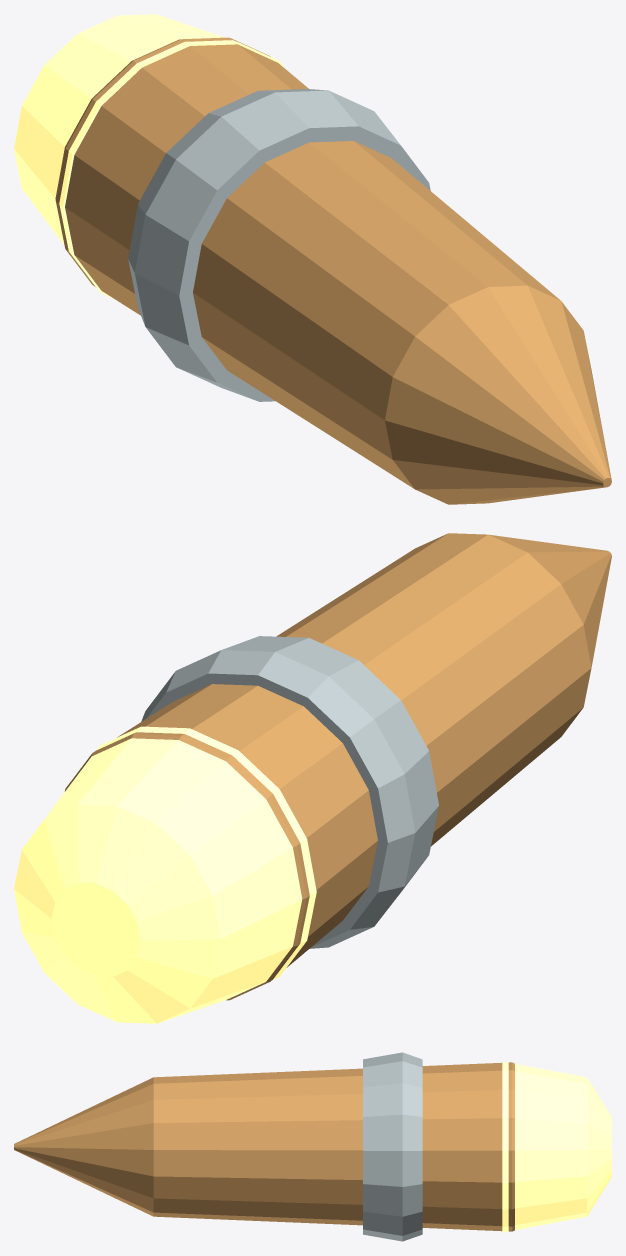
File: sidegun.glb
3 renders of one model, top to bottom at view 1: azimuth 30°, elevation 25°; view 2: azimuth 150°, elevation 25°; view 3: azimuth 270°, elevation 25°, orthographic. The views are drawn at different scales.
Parts seen in each view (by area): view 1: sidegun / body / sidegun identity shell, sidegun / body / Brushed silver ceramic, sidegun / body / sidegun identity light; view 2: sidegun / body / sidegun identity shell, sidegun / body / sidegun identity light, sidegun / body / Brushed silver ceramic; view 3: sidegun / body / sidegun identity shell, sidegun / body / sidegun identity light, sidegun / body / Brushed silver ceramic.
Part boxes in pixels (x1,y1,x2,y2): sidegun / body / sidegun identity shell: (55,37,611,504); sidegun / body / Brushed silver ceramic: (128,89,430,401); sidegun / body / sidegun identity light: (14,14,285,298); sidegun / body / sidegun identity shell: (64,533,611,1000); sidegun / body / sidegun identity light: (14,726,316,1023); sidegun / body / Brushed silver ceramic: (141,636,438,948); sidegun / body / sidegun identity shell: (14,1062,514,1231); sidegun / body / sidegun identity light: (502,1061,611,1232); sidegun / body / Brushed silver ceramic: (363,1052,422,1241).
Bounding box in the file's own units: 3.8 × 3.8 × 12.
